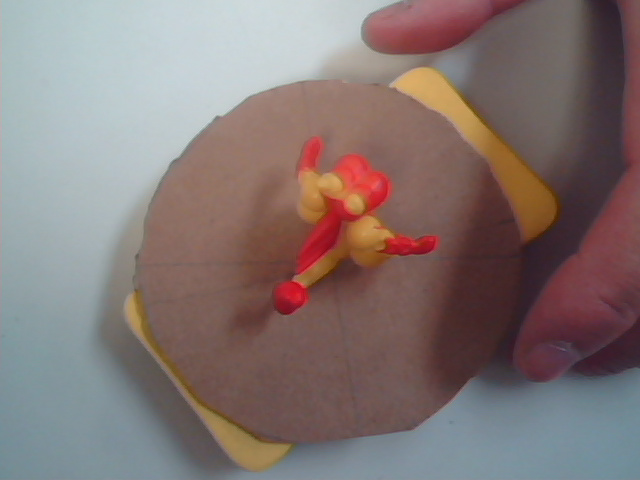magmar: (235, 133, 465, 344)
